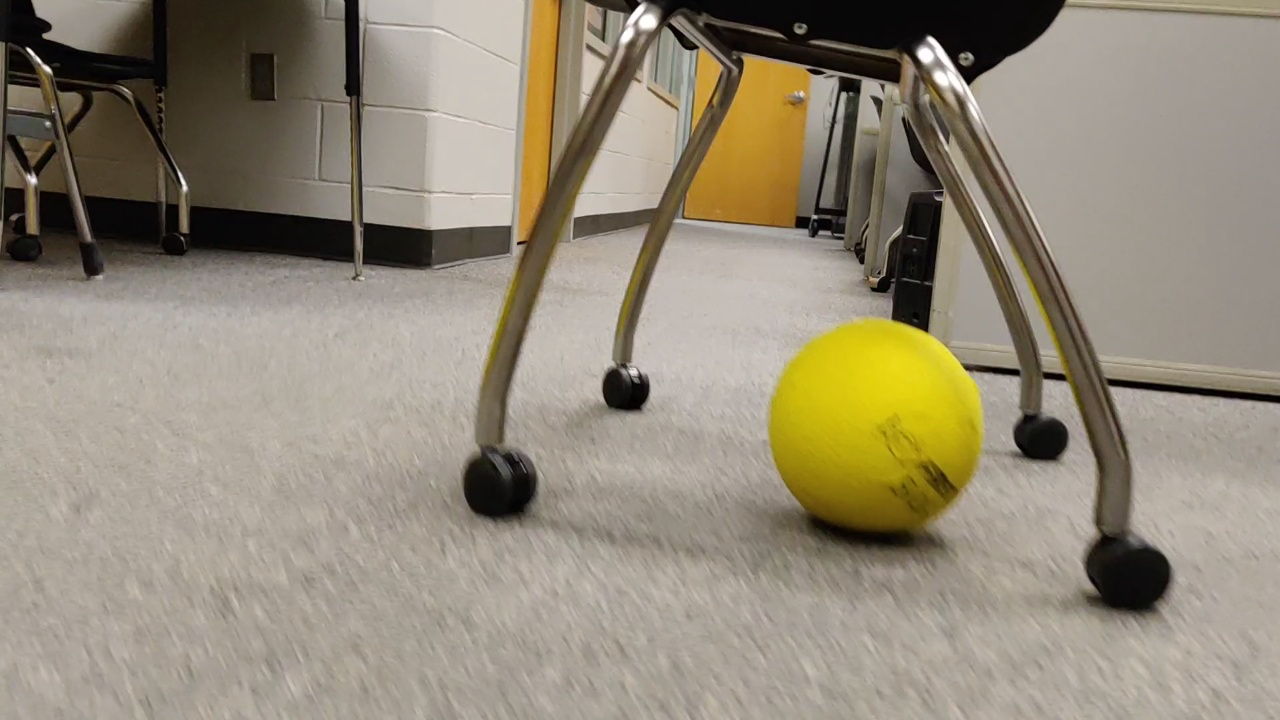Ball: (764, 315, 991, 547)
